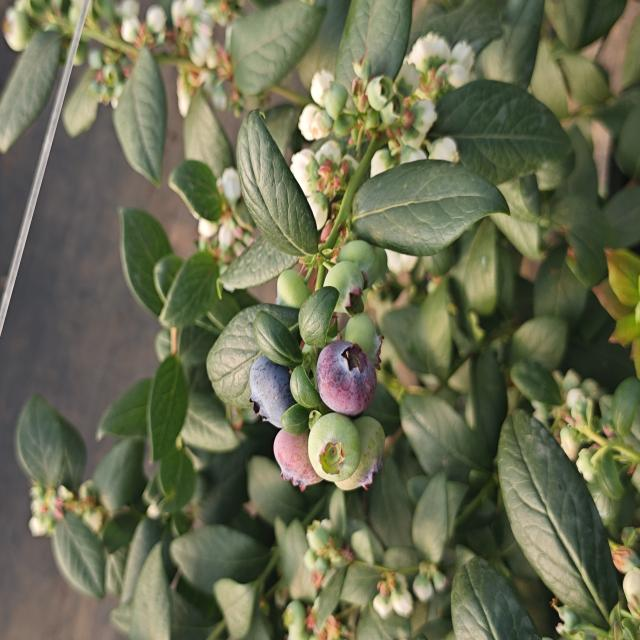ripe: (313, 338, 378, 418), (246, 352, 297, 430)
